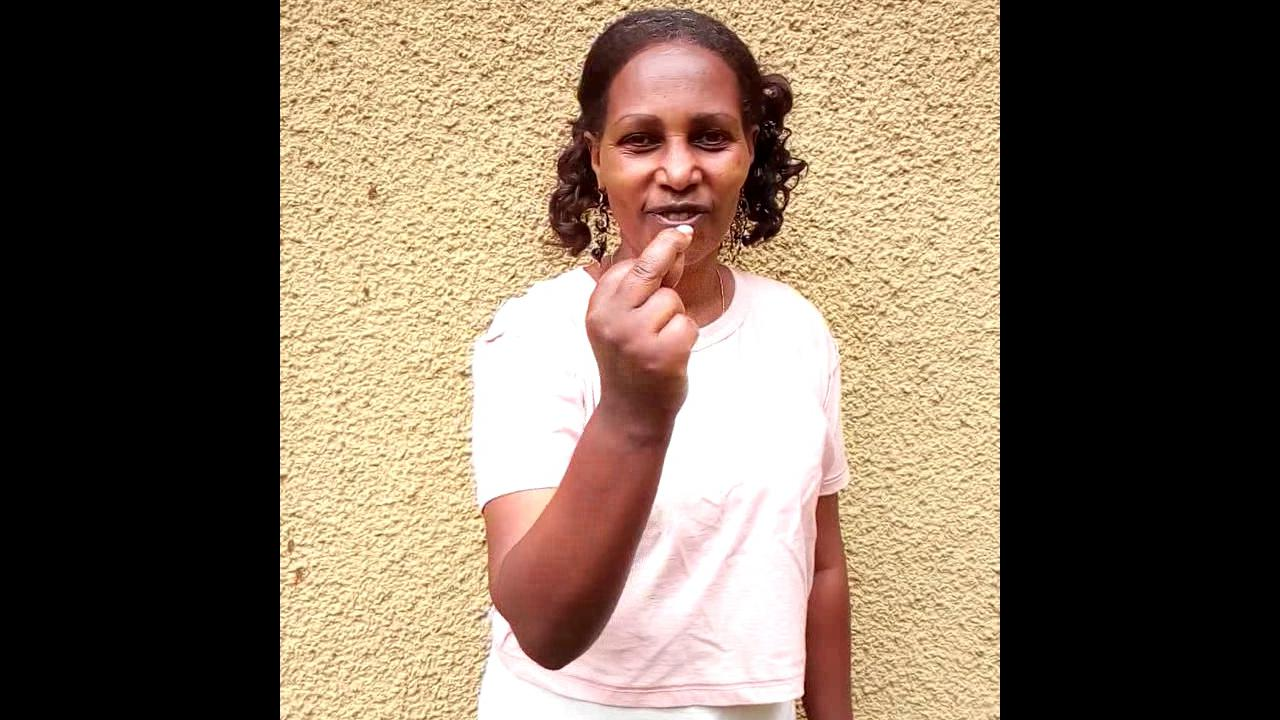CHE: (581, 225, 701, 486)
